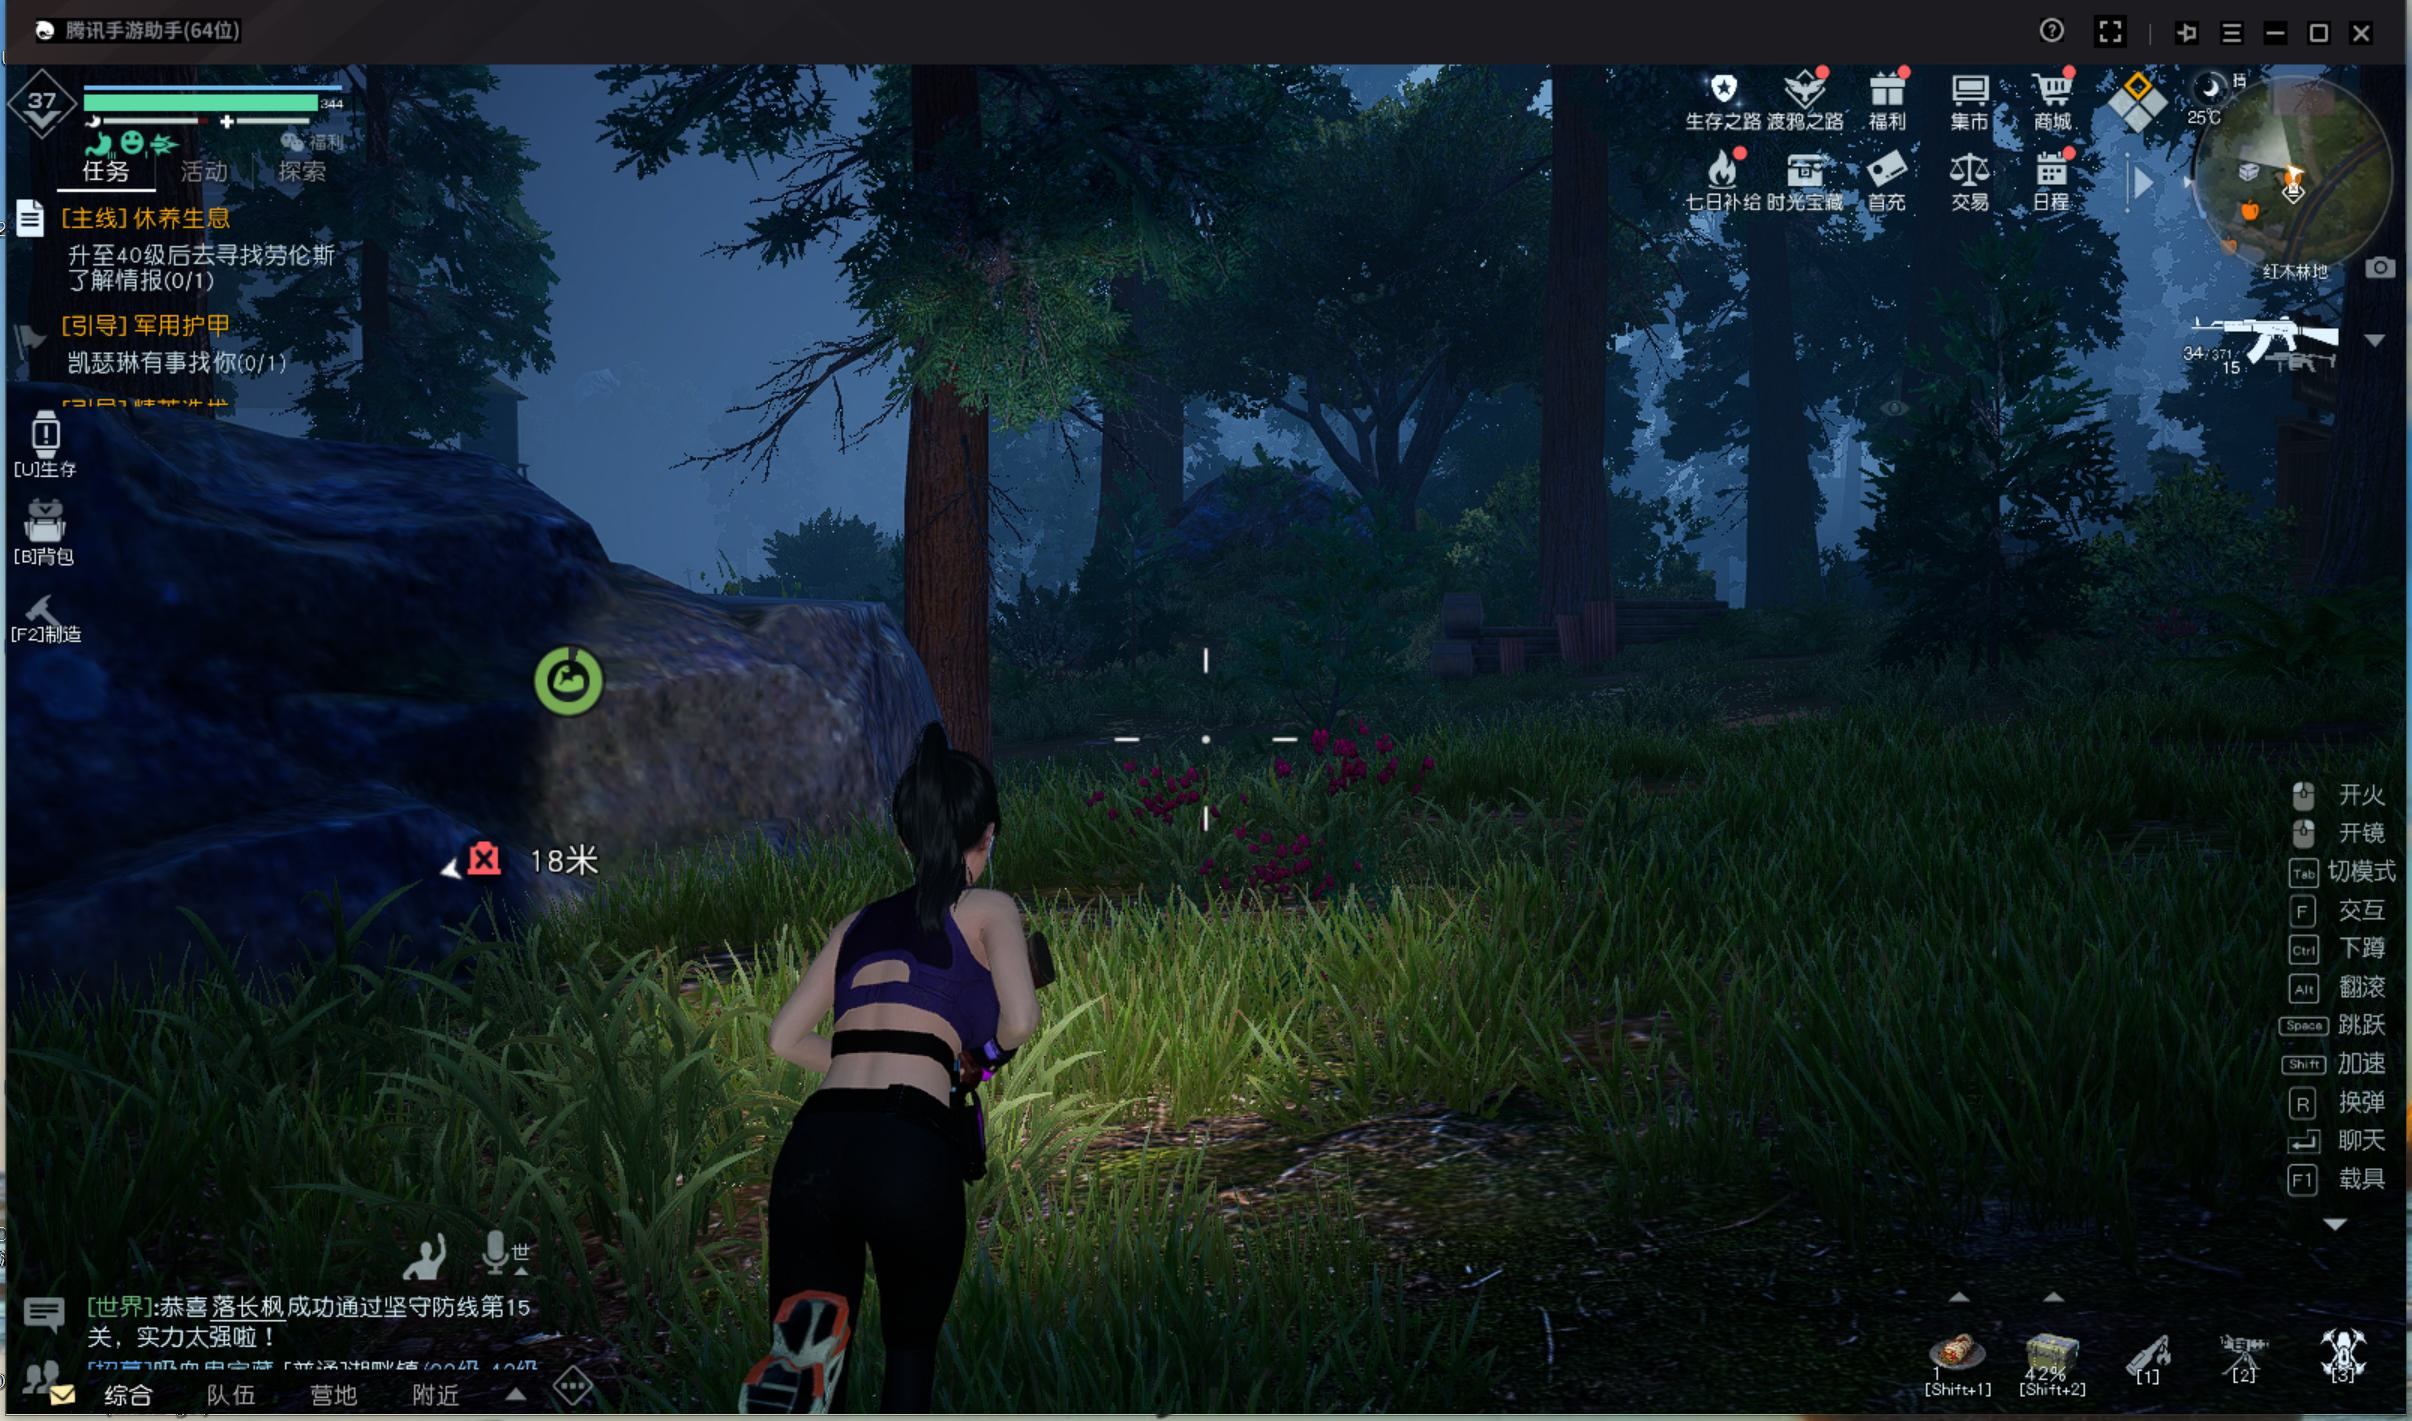tree: (888, 347, 998, 753), (1524, 142, 1605, 683), (1729, 237, 1825, 665), (1081, 352, 1192, 629), (342, 164, 403, 436)
